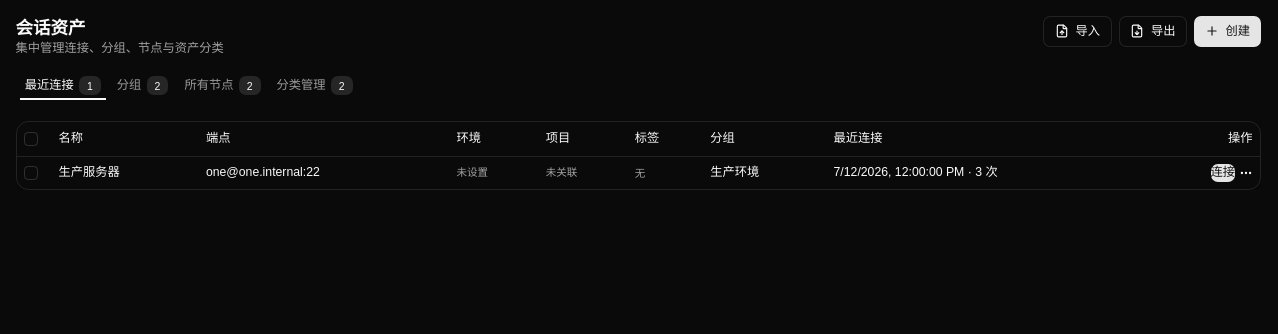
Test case: SessionAssetCenter behavior › keeps the catalog mutation lease across asset tab navigation
Click the tab "分类管理 2": click(315, 86) [270,75,359,96]
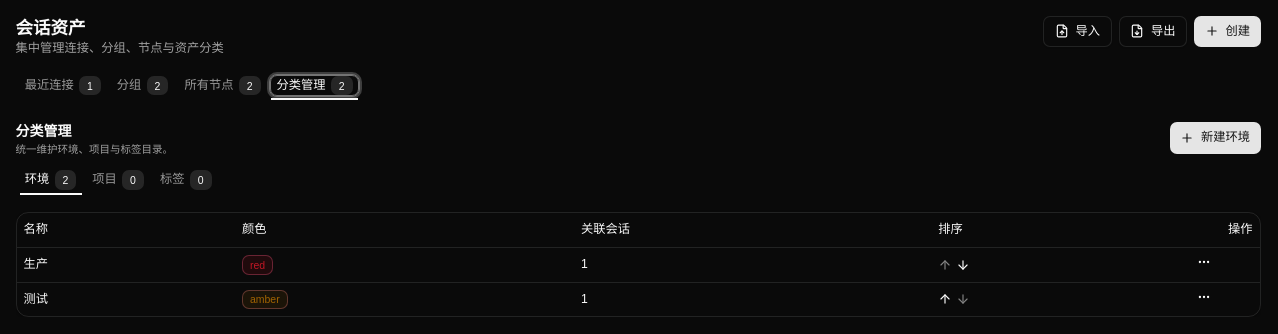
Click the button named "下移 生产": click(963, 265) [956,258,970,272]
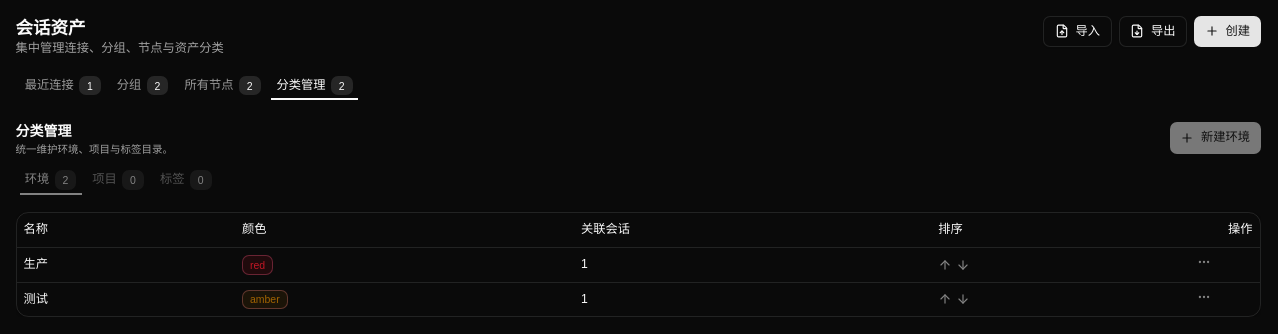
Click the tab "最近连接 1": click(63, 86) [18,75,107,96]
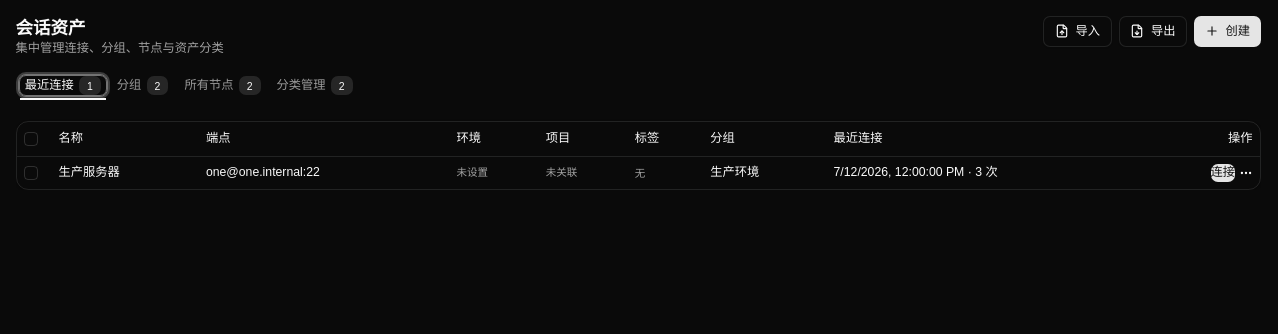
Click the tab "分类管理 2": click(315, 86) [270,75,359,96]
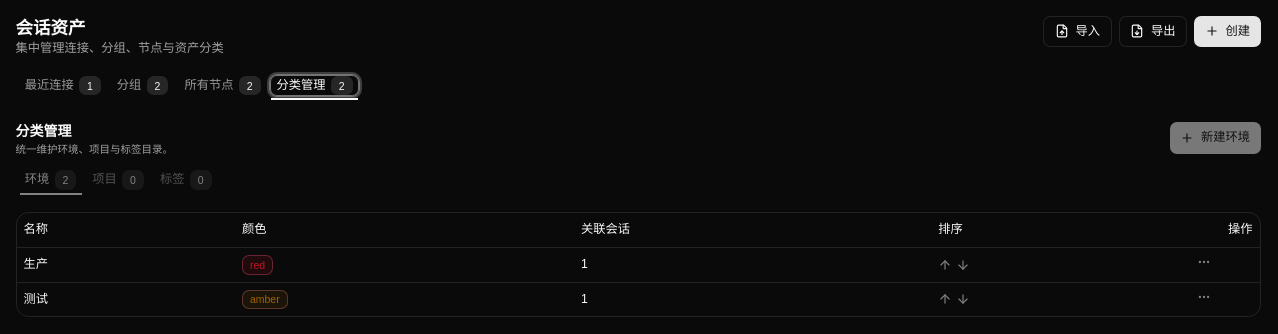
Expected: the button named "下移 生产" is disabled
Click the button named "下移 生产": click(963, 265) [956,258,970,272]
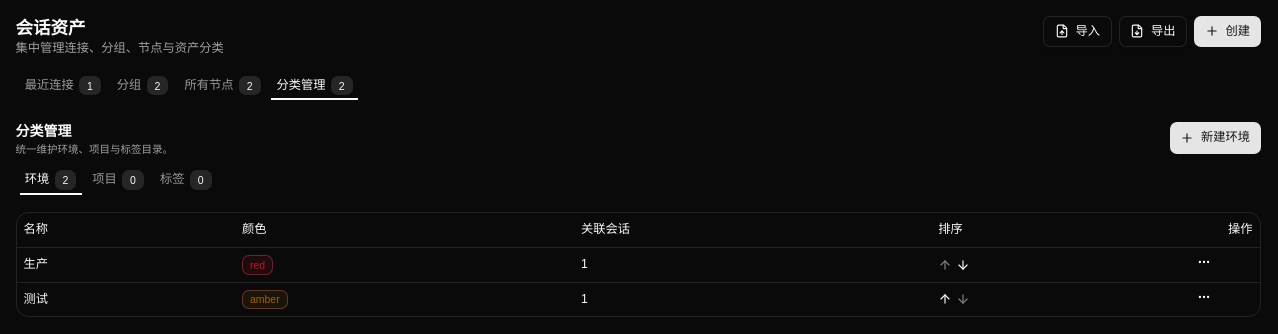
Expected: the button named "下移 生产" is enabled, [956,258,970,272]
